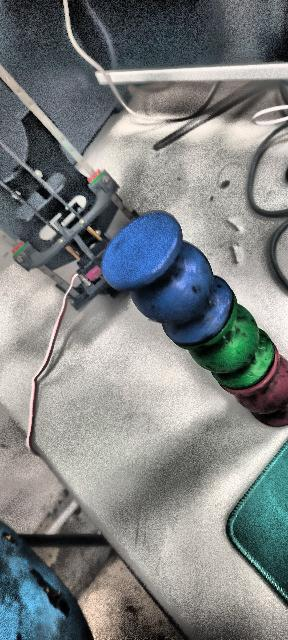blue: (98, 211, 228, 342)
green: (190, 291, 274, 393)
red: (222, 346, 287, 430)
